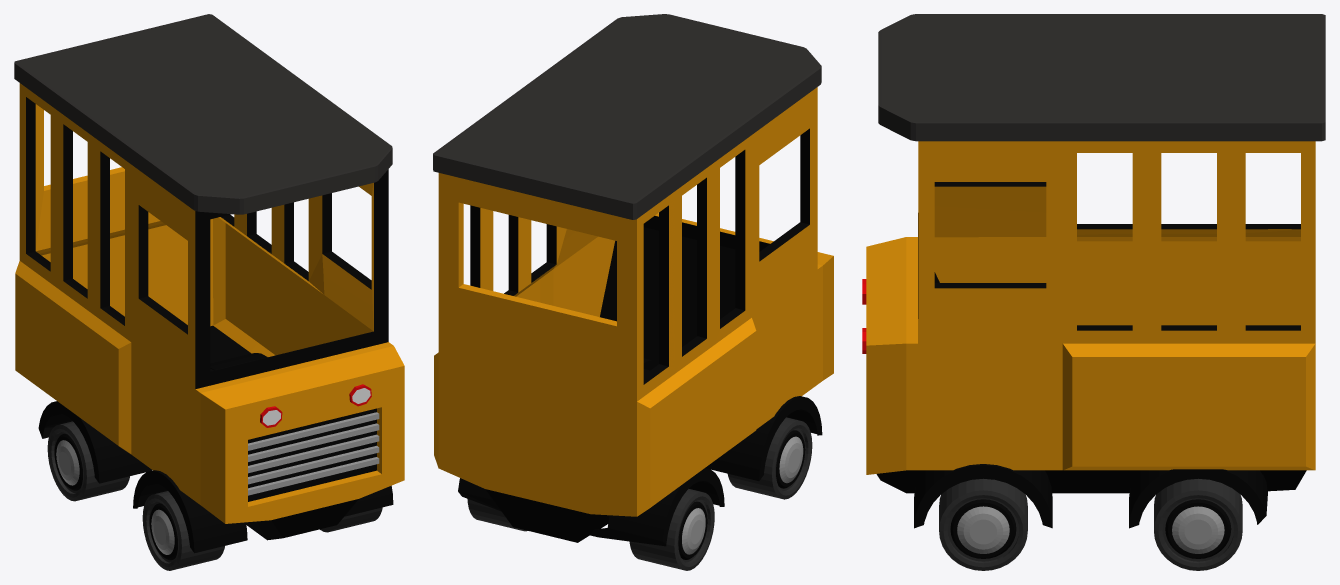
Rendered from busV3.fbx.
The picture shows the model from 3 angles, left to right: view 1: azimuth 30°, elevation 25°; view 2: azimuth 150°, elevation 25°; view 3: azimuth 270°, elevation 25°; orthographic projection. The views are drawn at different scales.
Visible parts, largest first — view 1: wheelArch, busRoof; view 2: wheelArch, busRoof; view 3: wheelArch, busRoof.
Boxes of the visible parts, x1,y1,x2,y2 form: wheelArch: (15,83,404,570); busRoof: (14,14,392,214); wheelArch: (434,87,833,570); busRoof: (433,14,821,219); wheelArch: (862,141,1315,570); busRoof: (878,14,1325,141).
Bounding box in the file's own units: 245 × 439 × 413.
